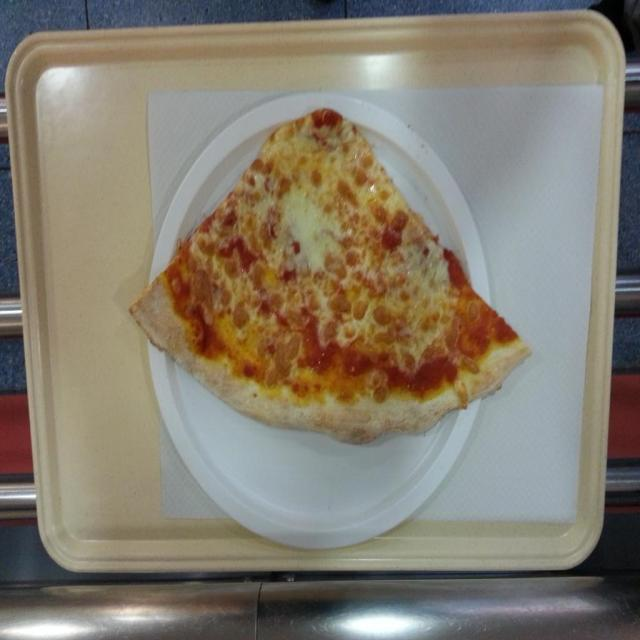plate: (128, 88, 530, 548)
